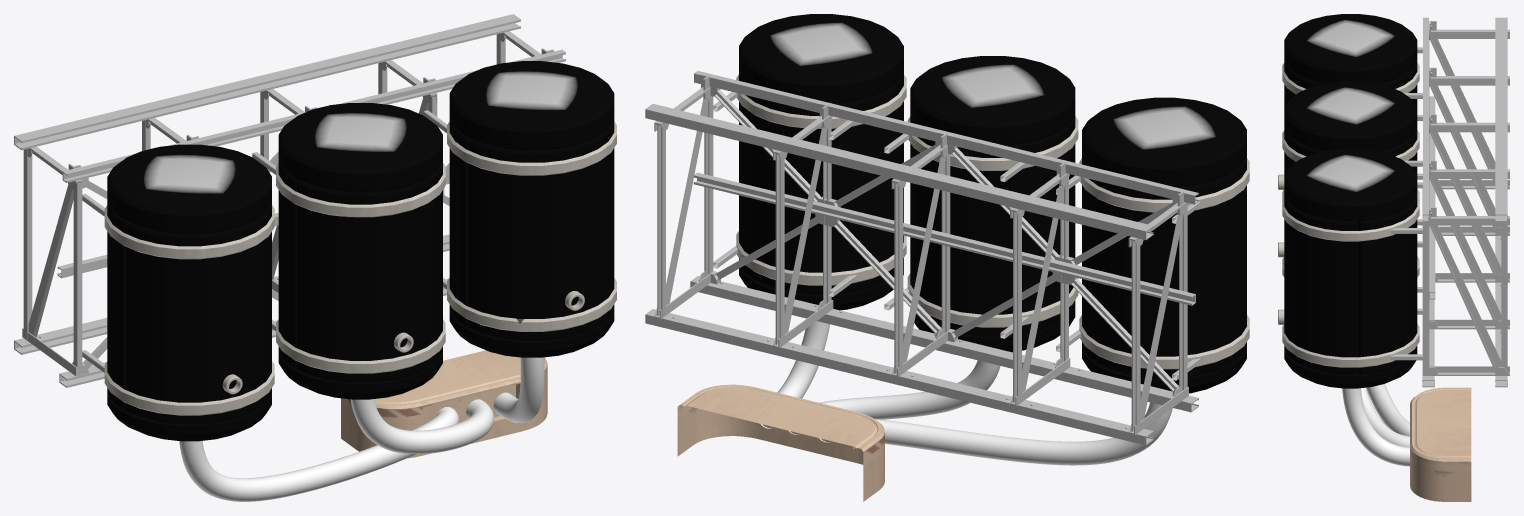
Rendered from KB3D_CBP_WaterTank_C.fbx.
The picture shows the model from 3 angles, left to right: view 1: azimuth 30°, elevation 25°; view 2: azimuth 150°, elevation 25°; view 3: azimuth 270°, elevation 25°; orthographic projection. The views are drawn at different scales.
Parts seen in each view (by area): view 1: KB3D_CBP_WaterTank_C_Main; view 2: KB3D_CBP_WaterTank_C_Main; view 3: KB3D_CBP_WaterTank_C_Main.
Boxes of the visible parts, x1,y1,x2,y2 form: KB3D_CBP_WaterTank_C_Main: (14,14,616,501); KB3D_CBP_WaterTank_C_Main: (645,14,1249,501); KB3D_CBP_WaterTank_C_Main: (1278,14,1509,501).
Size of the model in its own units: 366 by 263 by 182.
